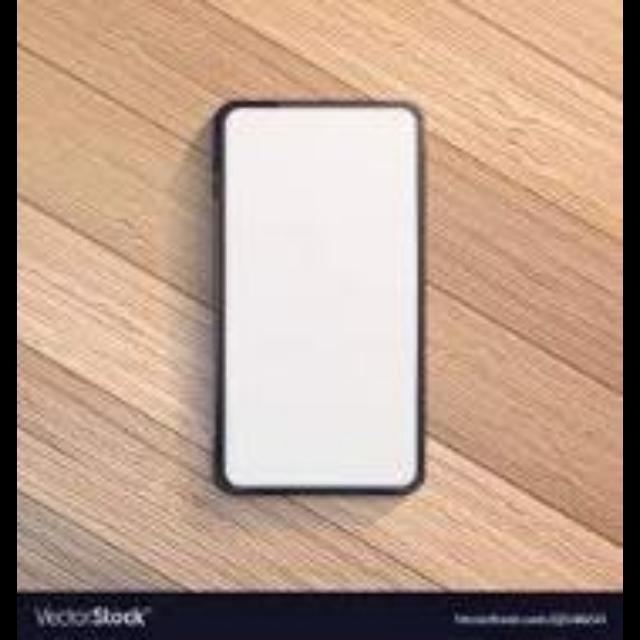phone: (218, 101, 427, 495)
